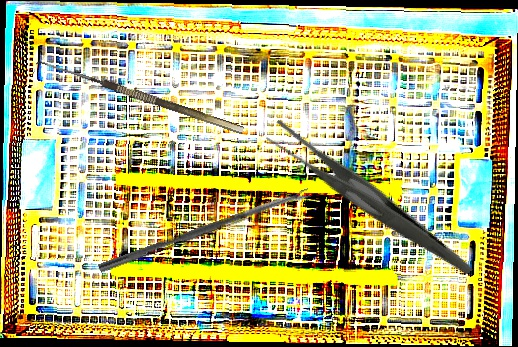Dressing Forceps: (262, 79, 473, 323)
Hook Surgical: (32, 56, 245, 145)
Surgical Spoon: (98, 188, 311, 274)
